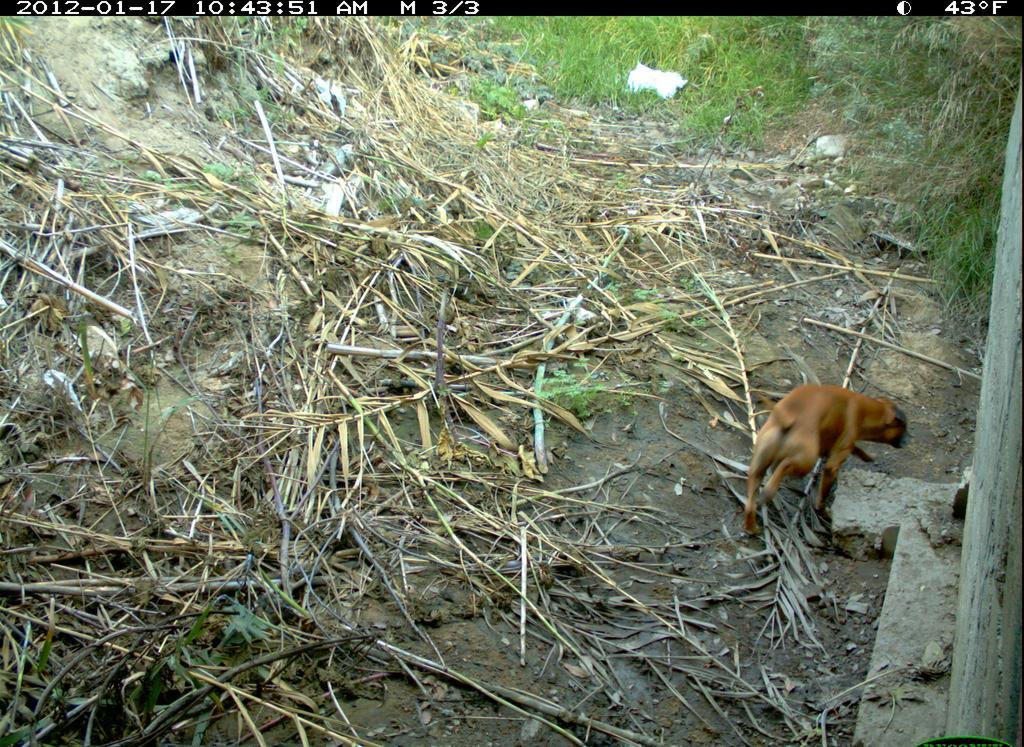dog: (725, 369, 926, 557)
